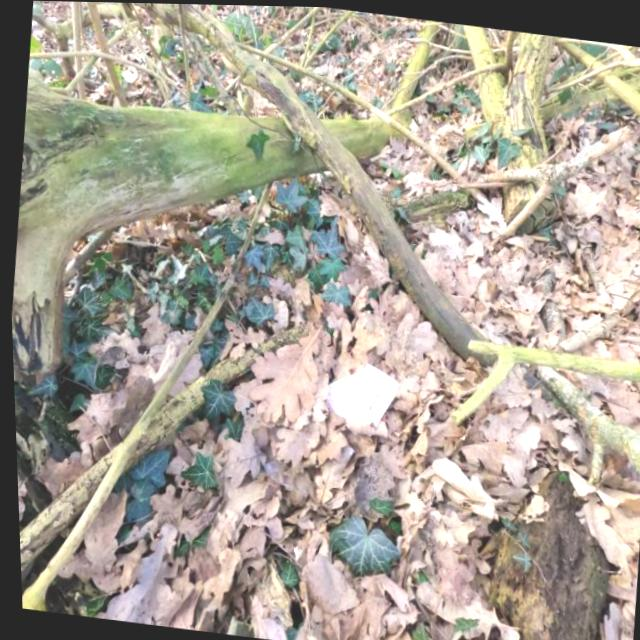Paper: (311, 353, 400, 439)
